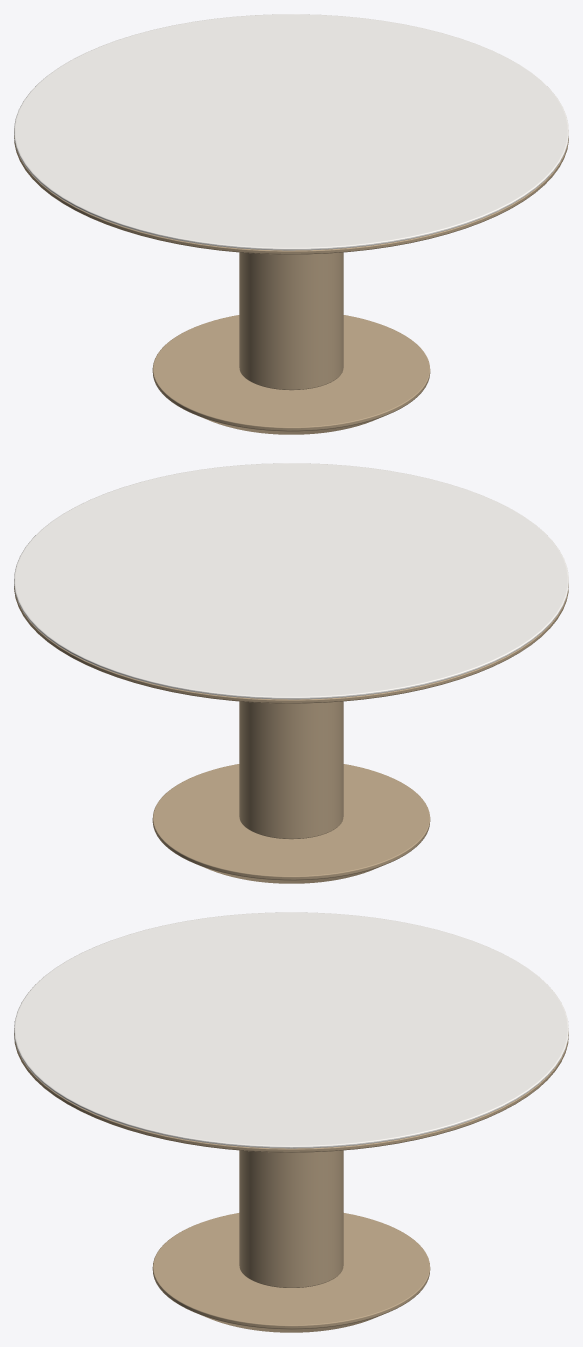
The model's file is orbit_d80h40_hoje.glb.
3 renders of one model, top to bottom at view 1: azimuth 30°, elevation 25°; view 2: azimuth 150°, elevation 25°; view 3: azimuth 270°, elevation 25°, orthographic.
Parts seen in each view (by area): view 1: Top Orbit Coffee Table 017, Base Orbit Coffee Table 017, Base Element Orbit Coffee Table 020, Undertop Orbit Coffee Table 017; view 2: Top Orbit Coffee Table 017, Base Orbit Coffee Table 017, Base Element Orbit Coffee Table 020, Undertop Orbit Coffee Table 017; view 3: Top Orbit Coffee Table 017, Base Orbit Coffee Table 017, Base Element Orbit Coffee Table 020, Undertop Orbit Coffee Table 017.
Boxes of the visible parts, x1=… form: Top Orbit Coffee Table 017: x1=14, y1=14, x2=568, y2=250; Base Orbit Coffee Table 017: x1=152, y1=315, x2=430, y2=434; Base Element Orbit Coffee Table 020: x1=239, y1=252, x2=343, y2=390; Undertop Orbit Coffee Table 017: x1=14, y1=135, x2=568, y2=254; Top Orbit Coffee Table 017: x1=14, y1=463, x2=568, y2=699; Base Orbit Coffee Table 017: x1=152, y1=764, x2=430, y2=883; Base Element Orbit Coffee Table 020: x1=239, y1=701, x2=343, y2=839; Undertop Orbit Coffee Table 017: x1=14, y1=584, x2=568, y2=703; Top Orbit Coffee Table 017: x1=14, y1=912, x2=568, y2=1148; Base Orbit Coffee Table 017: x1=152, y1=1213, x2=430, y2=1332; Base Element Orbit Coffee Table 020: x1=239, y1=1150, x2=343, y2=1287; Undertop Orbit Coffee Table 017: x1=14, y1=1033, x2=568, y2=1152.
Bounding box in the file's own units: 0.8 × 0.404 × 0.8.
